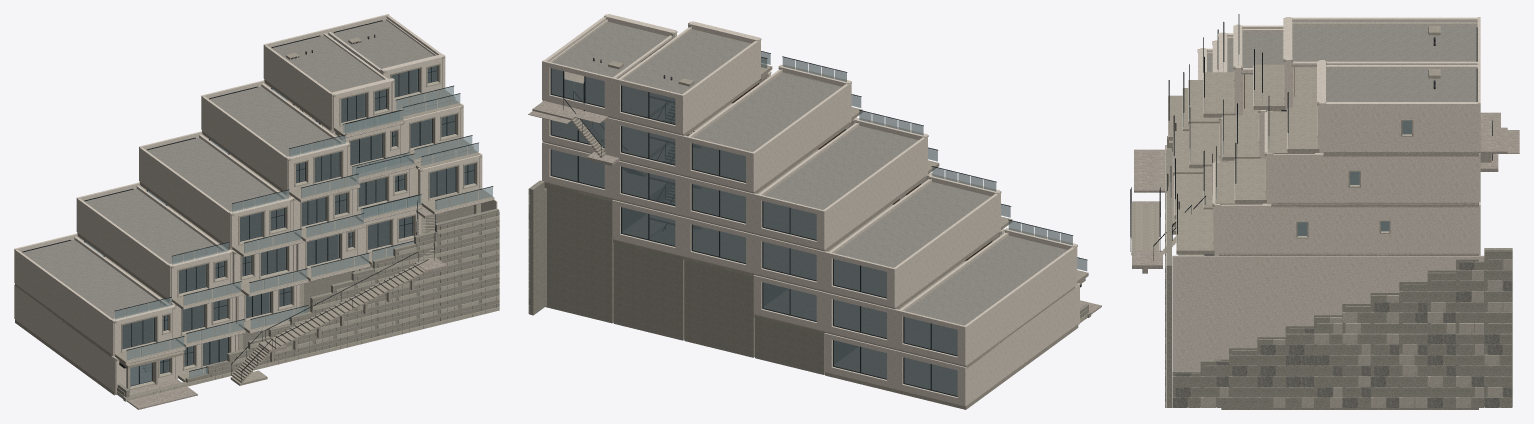
File: HIL02_lod2.glb
The picture shows the model from 3 angles, left to right: view 1: azimuth 30°, elevation 25°; view 2: azimuth 150°, elevation 25°; view 3: azimuth 270°, elevation 25°; orthographic projection. The views are drawn at different scales.
Visible parts, largest first — view 1: Roof_Top_Membrane__RoofGravel, Facade_Left_Exterior_Walls__Plaster, Facade_Inset_Glass__GlassTint, Structure_Layered_Retaining__Stone, Facade_Glass_Interior_Shadow__WoodDark, Facade_Raised_Plaster__Plaster, Facade_Cantilever_Concrete__WarmConcrete, Facade_Balcony_Glass__Glass, Structure_Layered_Retaining__StoneLight, Facade_Window_Reveals__StoneLight, Facade_Glass_Balustrades__Glass, Structure_Exterior_Stair_Treads__WarmConcrete (+17 smaller); view 2: Roof_Top_Membrane__RoofGravel, Facade_Rear_Plaster__Plaster, Structure_Floor_Slabs__WarmConcrete, Facade_Left_Exterior_Walls__Plaster, Facade_Rear_Glass__GlassTint, Structure_Grade_Foundations__Stone, Roof_Parapets__Plaster, Facade_Raised_Plaster__Plaster, Facade_Rear_Frames__BlackMetal, Facade_Glass_Balustrades__Glass, Structure_Right_Grade_Concrete__Stone, Facade_Upper_Ledge__Plaster (+6 smaller); view 3: Facade_Outer_Side_Plaster__Plaster, Facade_East_Real_Ashlar__Stone, Facade_Upper_East_Grade_Plaster__Plaster, Facade_Cantilever_Concrete__WarmConcrete, Roof_Top_Membrane__RoofGravel, Facade_East_Real_Ashlar__StoneDark, Facade_East_Real_Ashlar__StoneLight, Structure_Grade_Foundations__Stone, Structure_Floor_Slabs__WarmConcrete, Facade_Raised_Plaster__Plaster, Roof_Parapets__Plaster, Roof_Step_Terrace_Concrete__WarmConcrete (+14 smaller).
Part boxes in pixels (x1,y1,x2,y2): Roof_Top_Membrane__RoofGravel: (22, 20, 434, 318); Facade_Left_Exterior_Walls__Plaster: (15, 45, 331, 391); Facade_Inset_Glass__GlassTint: (122, 65, 473, 373); Structure_Layered_Retaining__Stone: (123, 208, 499, 401); Facade_Glass_Interior_Shadow__WoodDark: (122, 66, 472, 372); Facade_Raised_Plaster__Plaster: (111, 54, 482, 393); Facade_Cantilever_Concrete__WarmConcrete: (114, 89, 494, 381); Facade_Balcony_Glass__Glass: (126, 86, 492, 377); Structure_Layered_Retaining__StoneLight: (125, 215, 499, 401); Facade_Window_Reveals__StoneLight: (121, 64, 477, 381); Facade_Glass_Balustrades__Glass: (115, 94, 478, 319); Structure_Exterior_Stair_Treads__WarmConcrete: (231, 214, 435, 382); Roof_Top_Membrane__RoofGravel: (552, 22, 1067, 325); Facade_Rear_Plaster__Plaster: (542, 60, 966, 406); Structure_Floor_Slabs__WarmConcrete: (542, 64, 1078, 409); Facade_Left_Exterior_Walls__Plaster: (681, 41, 1077, 405); Facade_Rear_Glass__GlassTint: (551, 68, 957, 396); Structure_Grade_Foundations__Stone: (544, 183, 858, 374); Roof_Parapets__Plaster: (550, 20, 1008, 310); Facade_Raised_Plaster__Plaster: (604, 14, 1079, 324); Facade_Rear_Frames__BlackMetal: (550, 68, 957, 396); Facade_Glass_Balustrades__Glass: (761, 57, 1072, 245); Structure_Right_Grade_Concrete__Stone: (530, 180, 546, 315); Facade_Upper_Ledge__Plaster: (606, 14, 1075, 247); Facade_Outer_Side_Plaster__Plaster: (1220, 102, 1478, 255); Facade_East_Real_Ashlar__Stone: (1172, 250, 1512, 407); Facade_Upper_East_Grade_Plaster__Plaster: (1172, 255, 1484, 370); Facade_Cantilever_Concrete__WarmConcrete: (1168, 64, 1319, 255); Roof_Top_Membrane__RoofGravel: (1207, 25, 1476, 109); Facade_East_Real_Ashlar__StoneDark: (1172, 261, 1512, 407); Facade_East_Real_Ashlar__StoneLight: (1200, 259, 1512, 407); Structure_Grade_Foundations__Stone: (1221, 259, 1478, 409); Structure_Floor_Slabs__WarmConcrete: (1219, 67, 1478, 255); Facade_Raised_Plaster__Plaster: (1200, 17, 1324, 254); Roof_Parapets__Plaster: (1207, 22, 1477, 72); Roof_Step_Terrace_Concrete__WarmConcrete: (1215, 110, 1314, 204).
Size of the model in its own units: 36.05 by 20.04 by 22.91.
14 materials, 14 textured.
